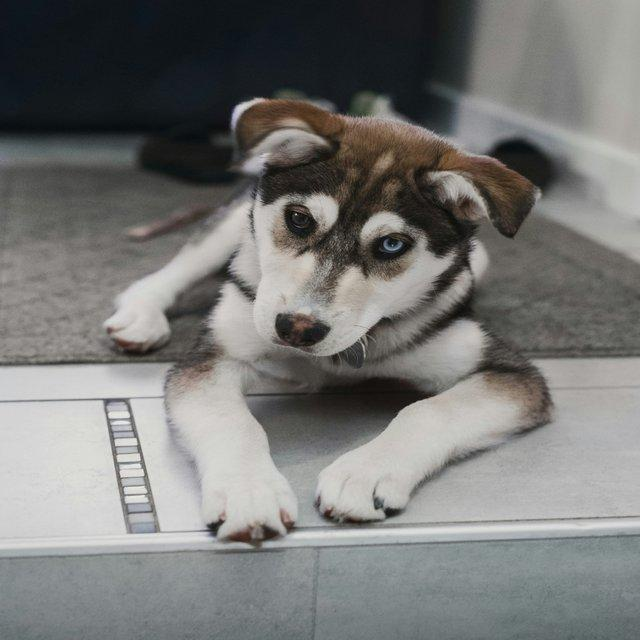husky: (102, 95, 555, 544)
